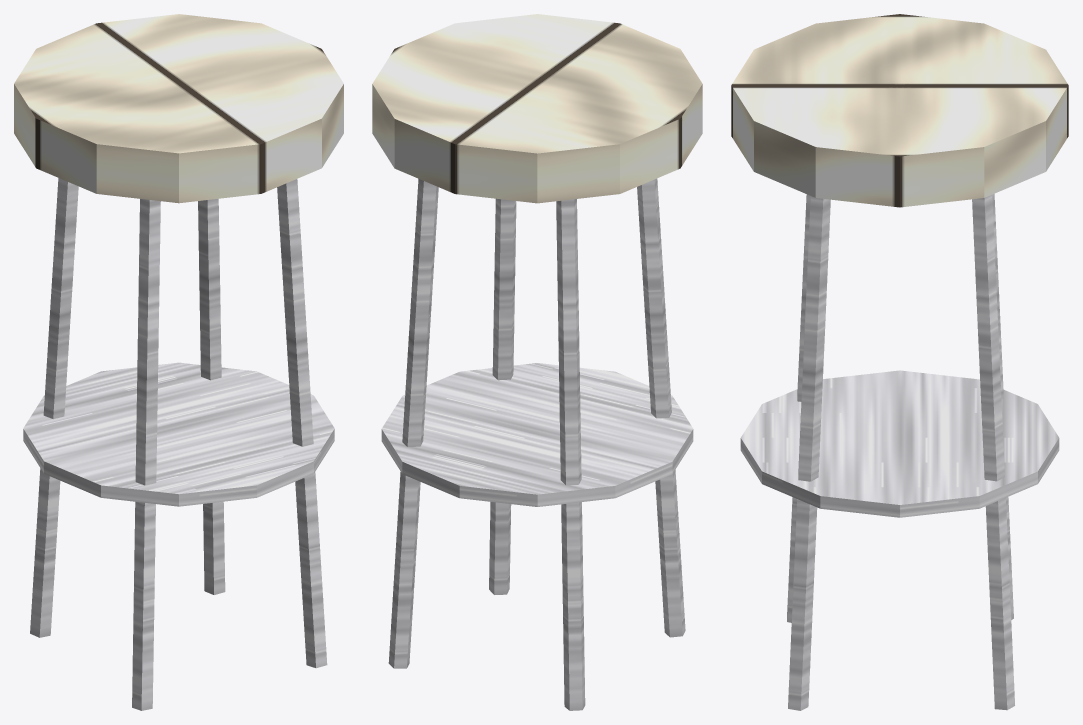
File: sgabello.obj
The picture shows the model from 3 angles, left to right: view 1: azimuth 30°, elevation 25°; view 2: azimuth 150°, elevation 25°; view 3: azimuth 270°, elevation 25°; orthographic projection. The views are drawn at different scales.
Parts seen in each view (by area): view 1: metallo_001, legno_000; view 2: metallo_001, legno_000; view 3: metallo_001, legno_000.
Part boxes in pixels (left/top/right/bottom): metallo_001: left=23, top=178, right=334, bottom=710; legno_000: left=14, top=14, right=343, bottom=203; metallo_001: left=381, top=178, right=693, bottom=710; legno_000: left=372, top=14, right=702, bottom=203; metallo_001: left=740, top=194, right=1059, bottom=710; legno_000: left=731, top=14, right=1068, bottom=207.
Size of the model in its own units: 0.36 by 0.6807 by 0.36.
2 materials, 2 textured.
